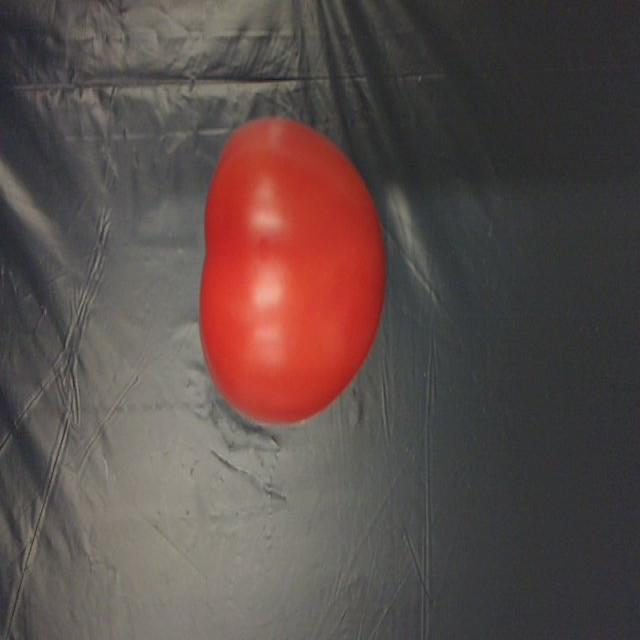kirmizi: (203, 112, 390, 430)
